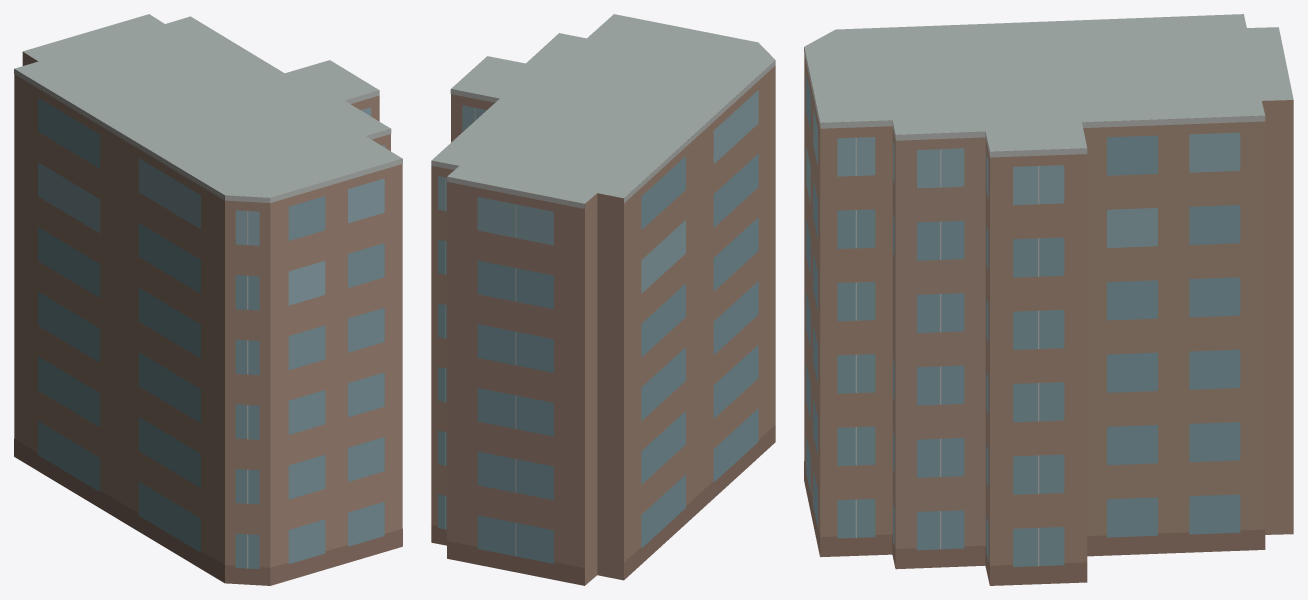
The model's file is survey-upis-32667107.glb.
3 renders of one model, left to right at view 1: azimuth 30°, elevation 25°; view 2: azimuth 150°, elevation 25°; view 3: azimuth 270°, elevation 25°, orthographic. The views are drawn at different scales.
Parts seen in each view (by area): view 1: survey-upis-32667107.tmp; view 2: survey-upis-32667107.tmp; view 3: survey-upis-32667107.tmp.
Boxes of the visible parts, x1,y1,x2,y2 form: survey-upis-32667107.tmp: [14, 14, 402, 585]; survey-upis-32667107.tmp: [431, 14, 775, 585]; survey-upis-32667107.tmp: [804, 14, 1293, 585].
Bounding box in the file's own units: 12.25 × 18 × 18.4.
